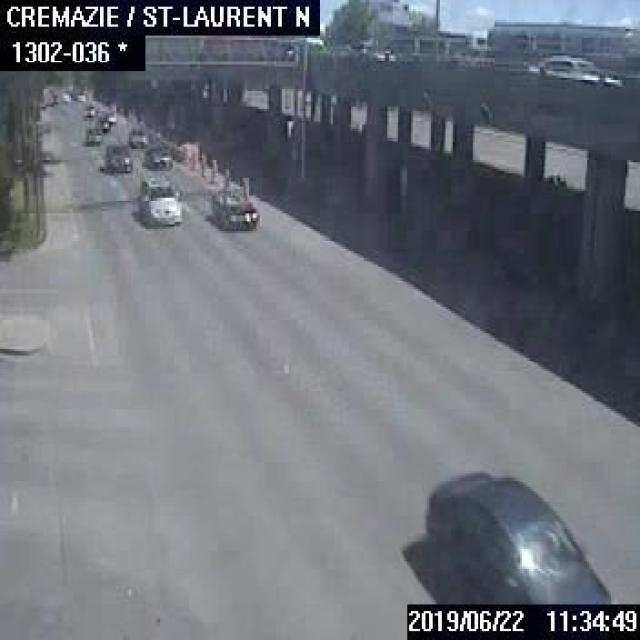construction: (240, 173, 249, 196), (222, 166, 231, 187), (191, 146, 197, 168), (210, 158, 216, 180), (200, 154, 206, 175)
vehicle: (420, 469, 616, 602), (532, 49, 620, 86), (207, 182, 260, 229), (139, 178, 184, 224), (332, 34, 394, 62), (100, 141, 132, 172), (140, 144, 170, 168), (126, 124, 146, 147), (82, 123, 101, 145), (94, 113, 107, 130), (102, 108, 115, 122), (83, 103, 97, 116)
